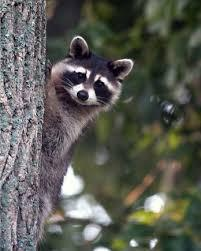raccoon: (43, 36, 134, 214)
